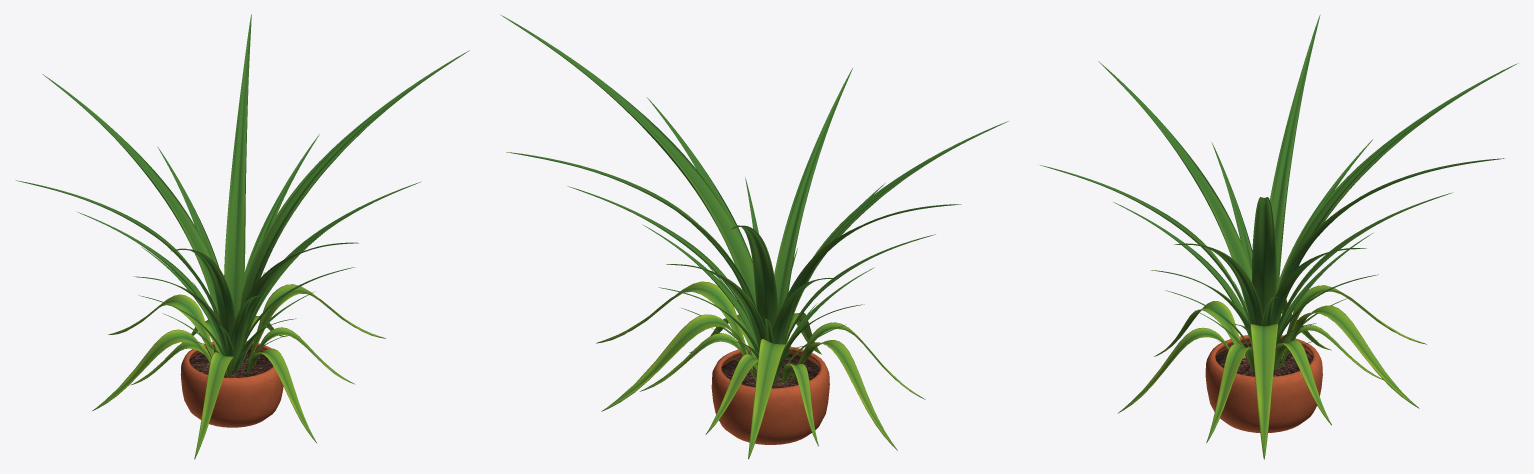
The model's file is plant5.fbx.
3 views of the same model, side by side, from view 1: azimuth 30°, elevation 25°; view 2: azimuth 150°, elevation 25°; view 3: azimuth 270°, elevation 25° (orthographic). The views are drawn at different scales.
Parts seen in each view (by area): view 1: PlantLarge2T_Circle.012, PlantLarge2B_Circle.006, PotLarge2_Vert.002, PotDirtLarge2_Circle.002; view 2: PlantLarge2T_Circle.012, PlantLarge2B_Circle.006, PotLarge2_Vert.002, PotDirtLarge2_Circle.002; view 3: PlantLarge2T_Circle.012, PlantLarge2B_Circle.006, PotLarge2_Vert.002, PotDirtLarge2_Circle.002.
Boxes of the visible parts, x1,y1,x2,y2 form: PlantLarge2T_Circle.012: (15, 14, 469, 371); PlantLarge2B_Circle.006: (92, 284, 385, 459); PotLarge2_Vert.002: (180, 341, 283, 427); PotDirtLarge2_Circle.002: (189, 348, 272, 377); PlantLarge2T_Circle.012: (501, 15, 1008, 379); PlantLarge2B_Circle.006: (596, 281, 925, 459); PotLarge2_Vert.002: (711, 346, 829, 444); PotDirtLarge2_Circle.002: (721, 354, 819, 388); PlantLarge2T_Circle.012: (1040, 15, 1518, 363); PlantLarge2B_Circle.006: (1117, 285, 1426, 459); PotLarge2_Vert.002: (1205, 335, 1322, 432); PotDirtLarge2_Circle.002: (1215, 342, 1312, 376).
Bounding box in the file's own units: 2852 × 1960 × 2439.
